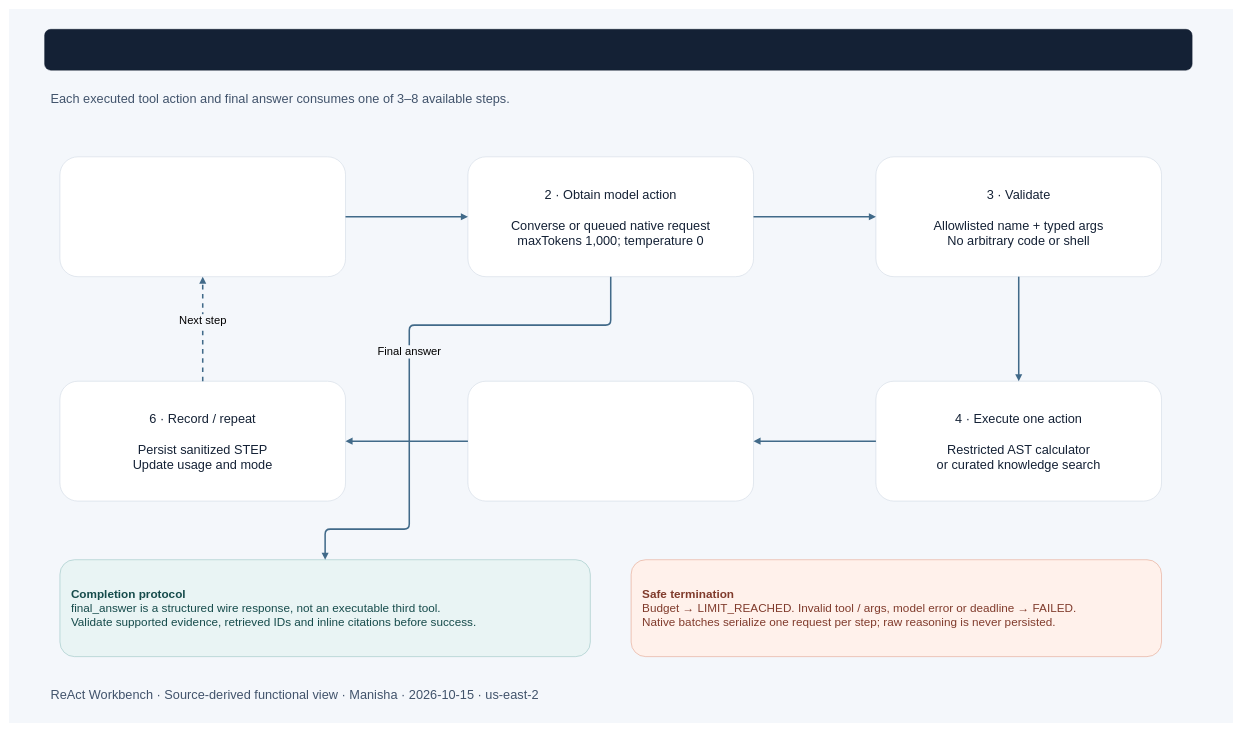
Image size: 1241x731. Some labels were removed from this diagram. The shapes that lost their labels are listed below. From the top down, each one's centre as x and y in pixels, then its label:
pixel 618 49: The agent is a bounded controller, not an unbounded conversation
pixel 202 216: 1 · Budget check Check runtime deadline and remaining steps
pixel 610 441: 5 · Observe Actual tool output + source IDs Untrusted evidence, not instructions
